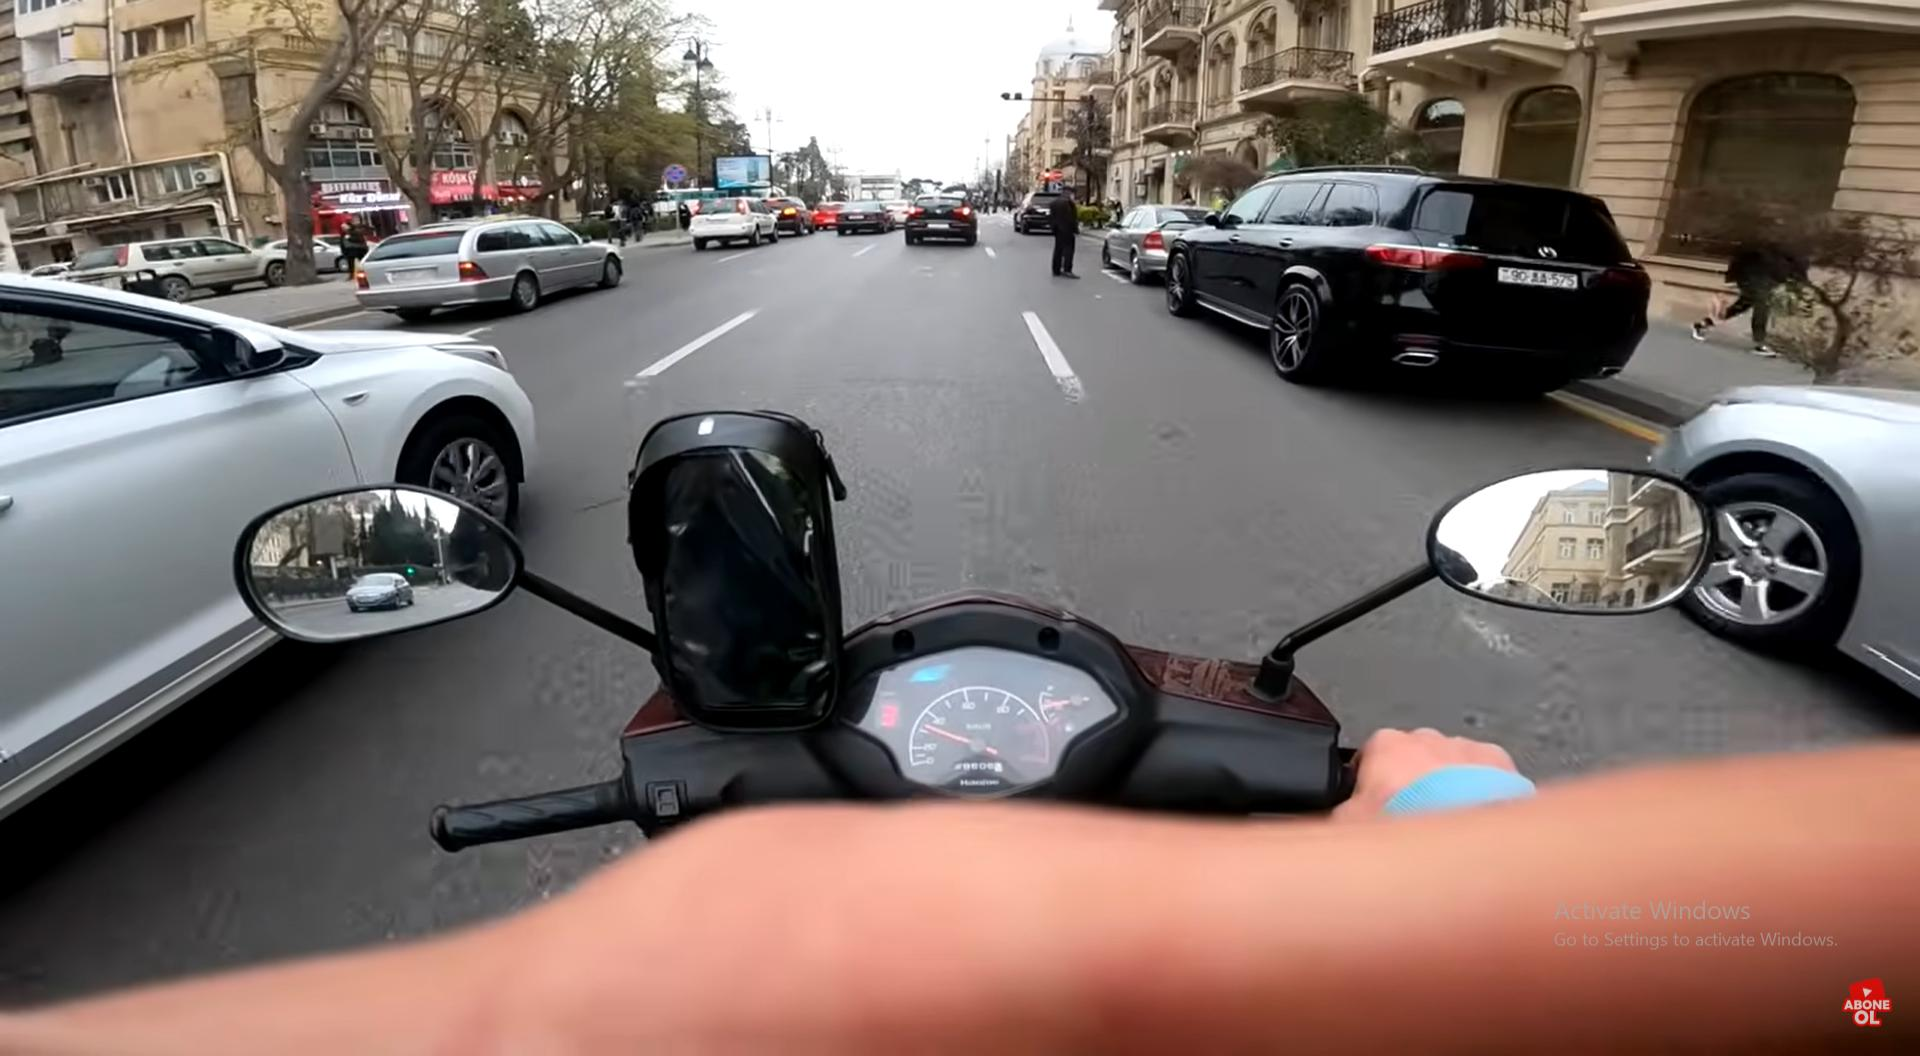banner: (712, 150, 776, 192)
